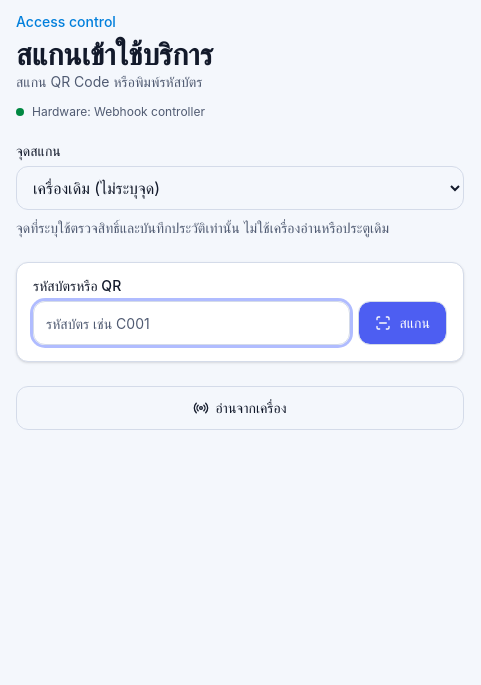
Test case: เลือกจุดแล้วส่ง ID ของจุด ไม่ใช้เครื่องอ่าน legacy และอัปเดตประวัติ
Select "ประตูข้าง" in the dropdown labelled "จุดสแกน": (240, 188) [16,166,464,210]
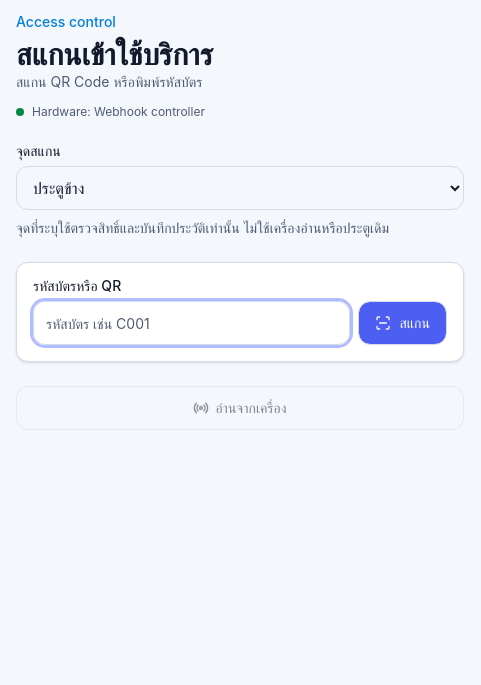
Now the button "อ่านจากเครื่อง" is disabled, box [16,386,464,430]
In the field labelled "รหัสบัตรหรือ QR": (192, 323) [33,301,350,345], type "C001"
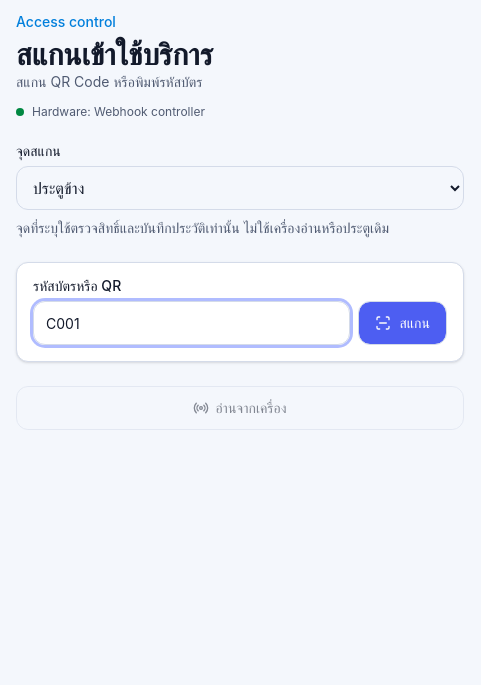
Click the button "สแกน": (403, 323) [358,301,447,345]
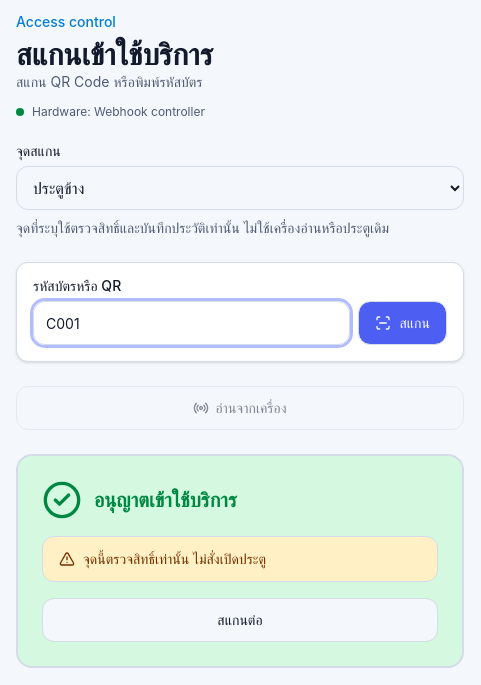
Now the text "จุดนี้ตรวจสิทธิ์เท่านั้น ไม่สั่งเปิดประตู" is shown, box [83,549,266,569]
